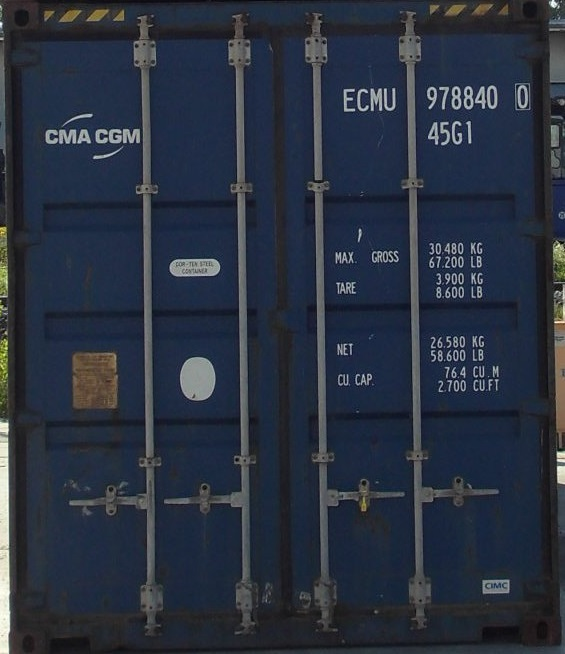container_door: (18, 1, 546, 652)
